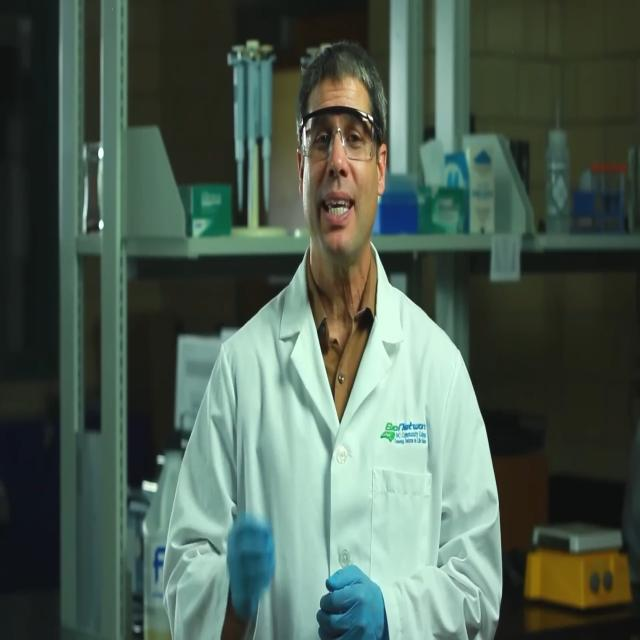googles: (296, 102, 388, 164)
labcoat: (160, 228, 504, 640)
